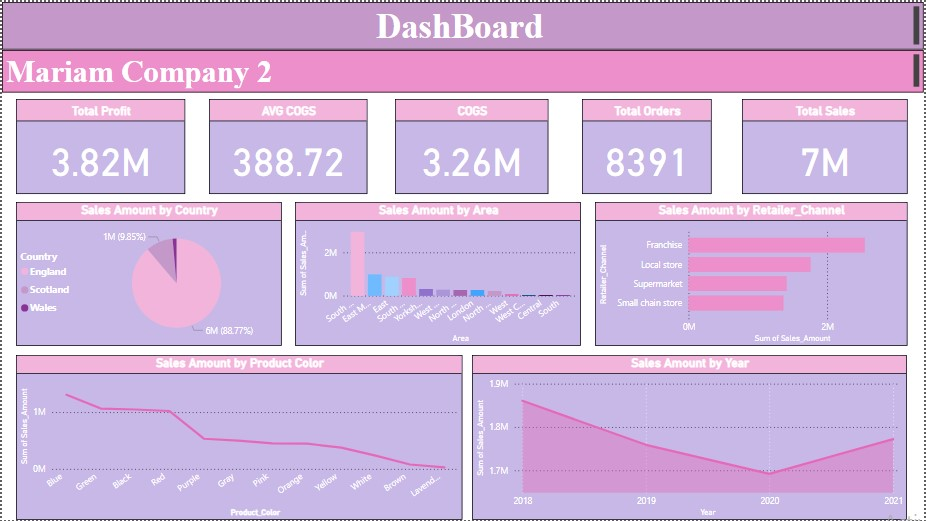

What the dashboard file says about the page in this screenshot:
{"tool":"powerbi","page":{"name":"Mariam Wael DashBoard 2","canvas":[1280,720],"ordinal":0},"visuals":[{"type":"card","title":"Total Profit","fields":{"Values":["Orders.Total_Profit"]},"box":[19.3,134.9,235.4,132.1],"z":0},{"type":"card","title":"Total Orders","fields":{"Values":["Orders.Total_Orders"]},"box":[805.2,134.9,180.3,132.1],"z":1000},{"type":"card","title":"Total Sales","fields":{"Values":["Orders.Total_Sales"]},"box":[1028.1,134.9,229.8,132.1],"z":2000},{"type":"card","title":"AVG COGS","fields":{"Values":["Orders.AVG_COGS"]},"box":[287.7,134.9,220.2,132.1],"z":3000},{"type":"card","title":"COGS","fields":{"Values":["Orders.Cost_of_Goods_Sold"]},"box":[546.4,134.9,213.3,132.1],"z":4000},{"type":"textbox","box":[0,0,1280,66.1],"z":5000},{"type":"textbox","box":[0,66.1,1280,59.2],"z":6000},{"type":"pieChart","title":"Sales Amount by Country","fields":{"Category":["Retailers.Country"],"Y":["Orders.Sales_Amount"]},"box":[19.3,278,368.9,199.6],"z":7000},{"type":"lineClusteredColumnComboChart","title":"Sales Amount by Area","fields":{"Y":["Orders.Sales_Amount"],"Category":["Retailers.Area"]},"box":[407.2,278,397.5,200.1],"z":8000},{"type":"lineChart","title":"Sales Amount by Product Color","fields":{"Y":["Orders.Sales_Amount"],"Category":["Products.Product_Color"]},"box":[20,490.7,620,229.3],"z":9000},{"type":"clusteredBarChart","title":"Sales Amount by Retailer_Channel","fields":{"Category":["Retailers.Retailer_Channel"],"Y":["Orders.Sales_Amount"]},"box":[824.1,278,433.6,200.1],"z":10000},{"type":"stackedAreaChart","title":"Sales Amount by Year","fields":{"Category":["Orders.Order_Date.Variation.Date Hierarchy.Year","Orders.Order_Date.Variation.Date Hierarchy.Quarter","Orders.Order_Date.Variation.Date Hierarchy.Month","Orders.Order_Date.Variation.Date Hierarchy.Day"],"Y":["Orders.Sales_Amount"]},"box":[653.3,490.7,604,229.3],"z":11000}]}

Visuals, with their boxes in screenshot pixels (x1, y1, x2, y2), scaled from the page's 1280x720 canvas onto the 926x521 screenshot:
"Total Profit" card: 14:98:184:193
"Total Orders" card: 583:98:713:193
"Total Sales" card: 744:98:910:193
"AVG COGS" card: 208:98:367:193
"COGS" card: 395:98:550:193
textbox: 0:0:925:48
textbox: 0:48:925:91
"Sales Amount by Country" pieChart: 14:201:281:346
"Sales Amount by Area" lineClusteredColumnComboChart: 295:201:582:346
"Sales Amount by Product Color" lineChart: 14:355:463:520
"Sales Amount by Retailer_Channel" clusteredBarChart: 596:201:910:346
"Sales Amount by Year" stackedAreaChart: 473:355:910:520
